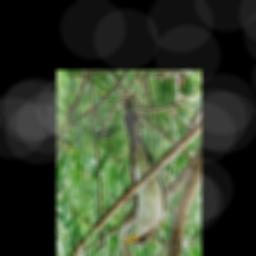Cuckoo: (120, 92, 165, 246)
